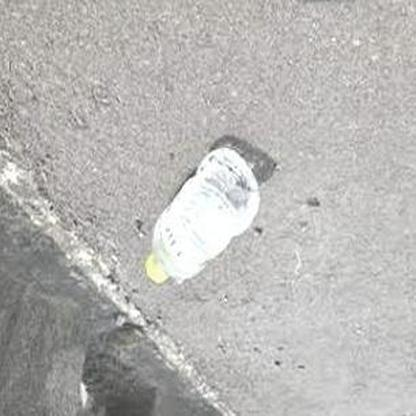plastic bottle: (145, 148, 262, 285)
